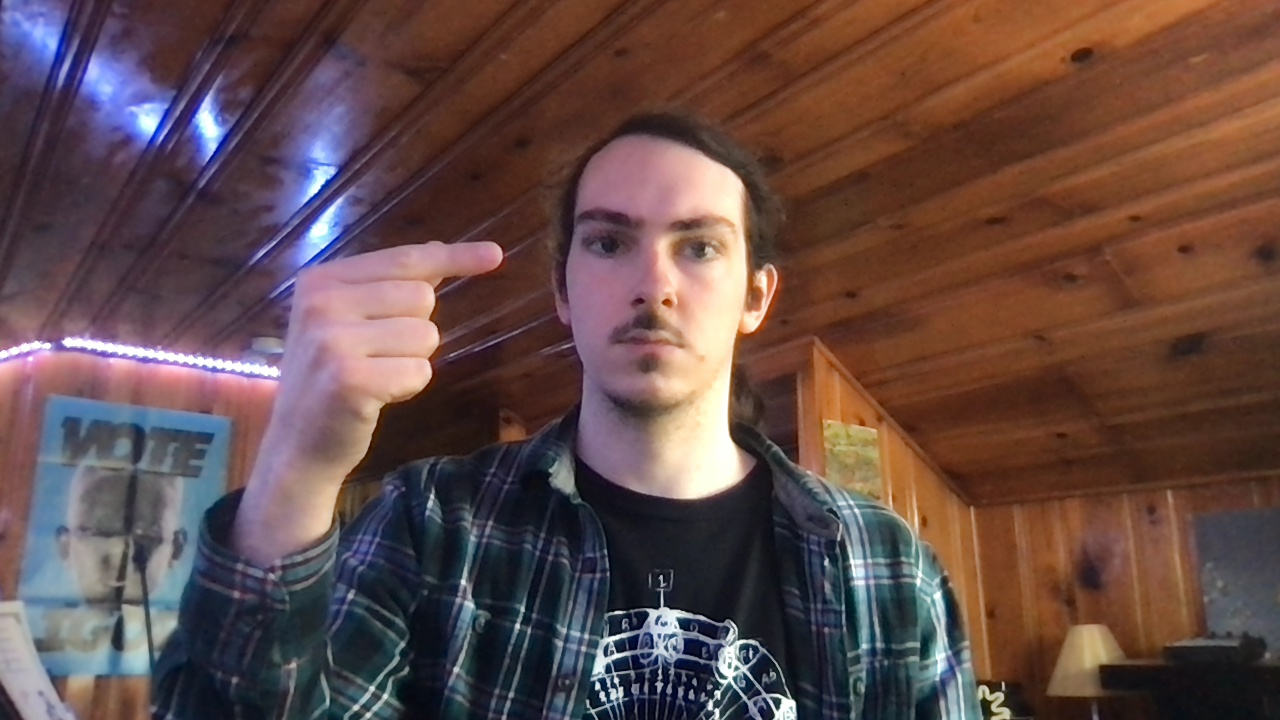g: (268, 238, 506, 475)
